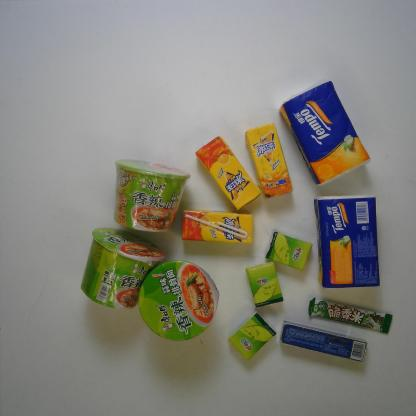Chocolate: (306, 296, 394, 334)
Drink: (194, 134, 261, 211), (243, 122, 294, 199), (179, 209, 256, 244)
Instant Noodles: (75, 224, 166, 311), (136, 258, 223, 342), (110, 157, 192, 233)
Personal Hygiene: (281, 318, 368, 362)
Tissue: (278, 77, 371, 187), (314, 189, 382, 289), (226, 313, 279, 360), (266, 226, 314, 271), (243, 258, 285, 308)
